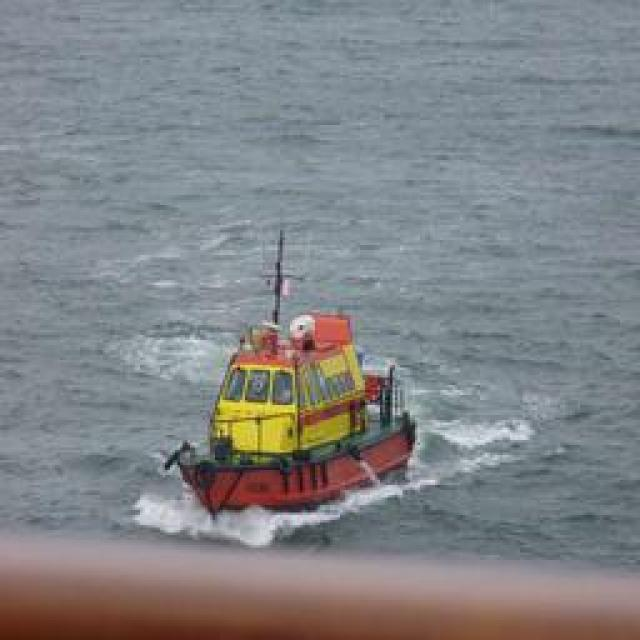ship2: (163, 218, 419, 525)
